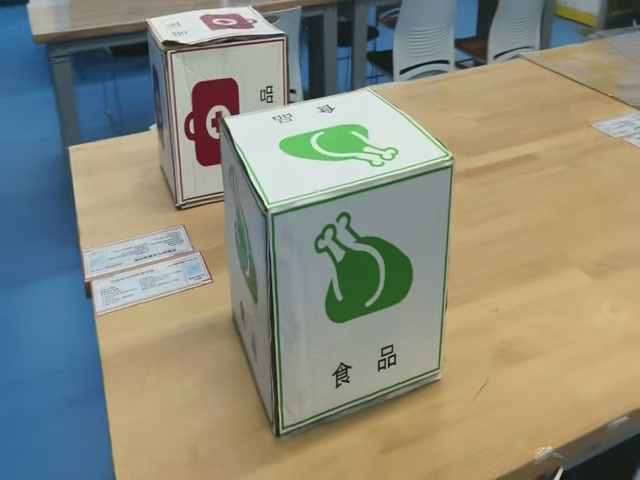Cube_food: (216, 86, 448, 217)
Cube_medicine: (146, 5, 288, 49)
